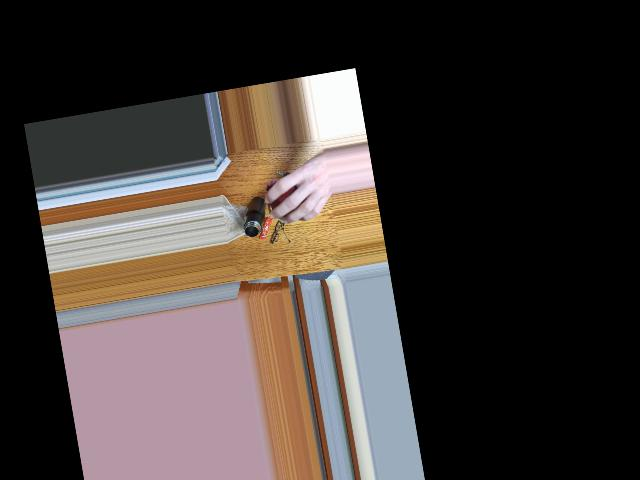onion: (270, 173, 309, 223)
